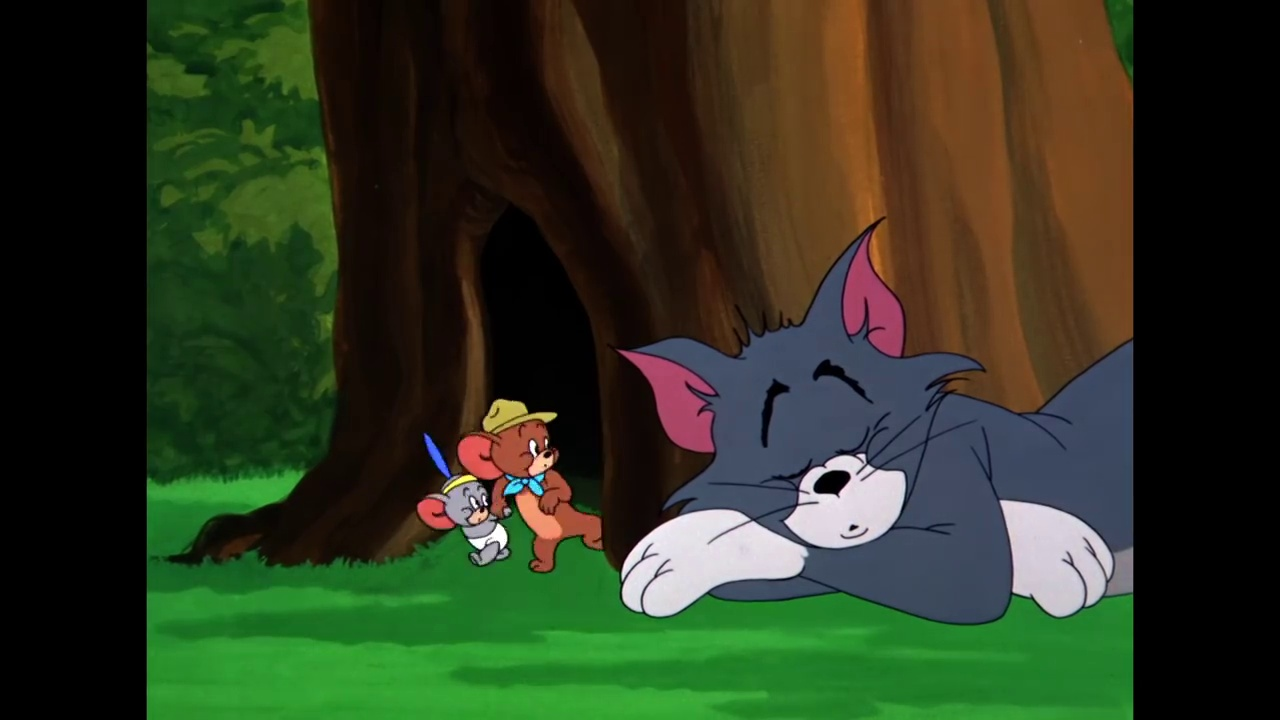tom: (608, 210, 984, 560)
